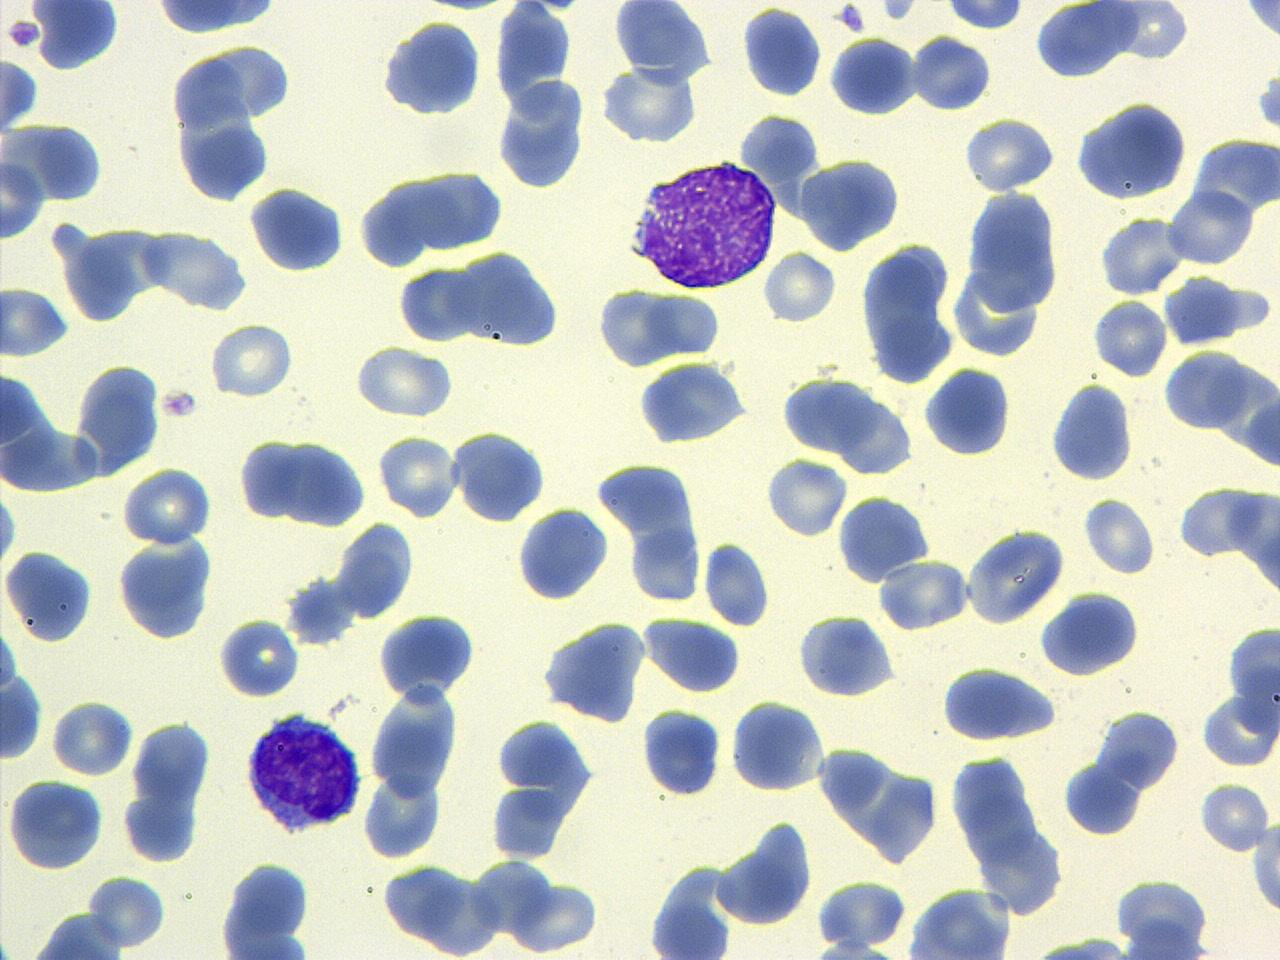Platelets: (702, 538, 772, 626), (0, 489, 19, 575), (1254, 76, 1280, 133), (158, 384, 200, 419), (5, 18, 42, 50), (837, 2, 866, 35), (535, 0, 580, 15)
RBC: (962, 524, 1068, 627), (726, 696, 830, 796), (1046, 377, 1142, 486), (904, 882, 1018, 958), (642, 613, 744, 695), (737, 3, 824, 98), (281, 438, 370, 528), (352, 342, 456, 418), (826, 33, 918, 119), (639, 704, 723, 798), (215, 614, 303, 702), (1161, 348, 1251, 434), (813, 875, 912, 953), (121, 462, 214, 544), (129, 717, 215, 805), (962, 114, 1056, 193), (874, 555, 970, 632), (377, 430, 459, 520), (1097, 214, 1183, 298), (208, 319, 296, 400), (764, 453, 848, 538), (594, 283, 676, 366), (1199, 685, 1277, 772), (395, 263, 477, 345), (1080, 492, 1158, 578), (85, 872, 172, 948), (910, 32, 991, 114), (49, 698, 132, 777), (1091, 295, 1169, 379), (1225, 617, 1279, 732), (629, 522, 703, 606), (702, 538, 772, 628), (1162, 273, 1242, 348), (1197, 776, 1271, 855), (764, 247, 838, 324), (237, 437, 302, 522), (0, 283, 73, 359), (645, 290, 721, 360), (0, 154, 45, 243), (1249, 807, 1280, 919), (0, 54, 40, 136)
WBC: (625, 154, 783, 296), (166, 38, 299, 205), (492, 0, 593, 192), (954, 181, 1064, 354), (1057, 702, 1187, 838), (597, 0, 718, 146), (484, 712, 601, 862), (242, 709, 365, 838), (858, 238, 959, 388), (776, 368, 916, 475), (449, 248, 569, 354), (1073, 95, 1191, 203), (540, 614, 652, 726), (716, 814, 818, 932), (366, 680, 462, 804), (116, 532, 221, 642), (635, 355, 754, 450), (962, 524, 1069, 628), (378, 16, 486, 120), (0, 112, 111, 213), (216, 855, 321, 958), (3, 774, 109, 874), (727, 696, 830, 796), (375, 608, 481, 706), (358, 752, 452, 862), (803, 156, 910, 252), (450, 426, 552, 524), (1038, 584, 1144, 678), (940, 662, 1060, 744), (834, 490, 936, 586), (514, 504, 611, 604), (246, 184, 351, 275), (3, 545, 97, 646), (1047, 377, 1137, 483), (796, 609, 898, 700), (331, 518, 419, 622), (1030, 0, 1146, 79), (922, 360, 1015, 458), (906, 884, 1018, 960), (646, 610, 742, 696), (640, 702, 722, 802), (826, 30, 916, 120), (741, 3, 823, 100), (284, 437, 368, 530), (814, 872, 910, 954), (1, 615, 47, 768), (28, 2, 125, 74), (130, 718, 211, 804), (911, 30, 991, 113), (398, 261, 477, 345), (702, 537, 772, 630), (1163, 271, 1241, 348), (18, 909, 130, 959), (0, 282, 72, 361), (238, 436, 302, 522), (145, 0, 293, 36), (1248, 817, 1280, 919), (938, 0, 1028, 31)
